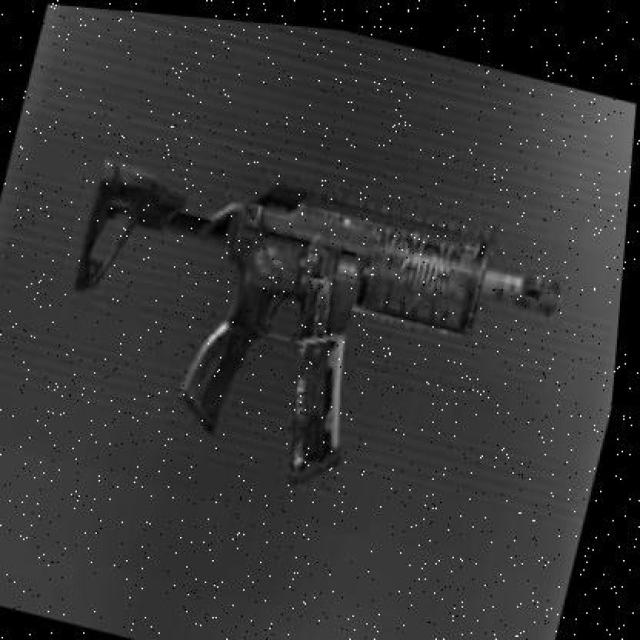weapon: (76, 160, 561, 478)
